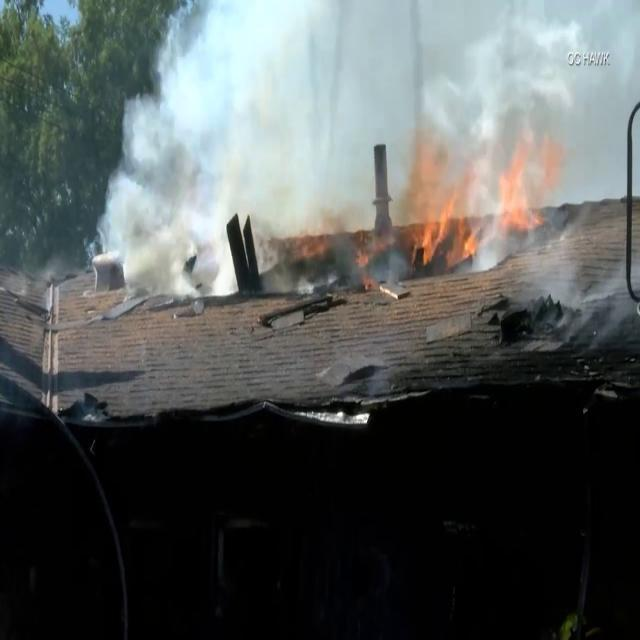Fire: (412, 126, 572, 272), (414, 188, 481, 272)
Smoke: (92, 0, 366, 285)
